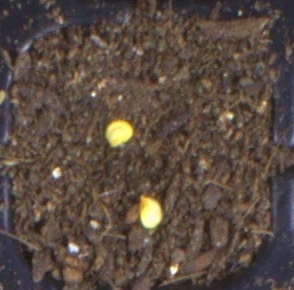chilli seed: (138, 194, 162, 229), (104, 120, 133, 148)
